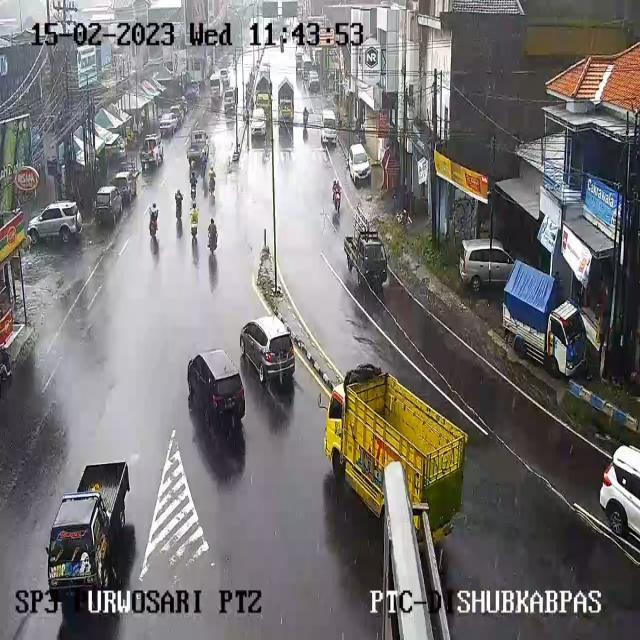Car: (183, 344, 243, 428), (598, 445, 640, 553), (242, 316, 296, 388), (457, 238, 512, 293), (27, 200, 83, 244), (92, 186, 125, 225), (346, 143, 370, 183), (111, 170, 139, 204), (140, 134, 164, 168), (188, 130, 210, 162), (320, 110, 338, 144), (250, 109, 268, 136), (158, 112, 178, 134), (222, 88, 236, 112), (300, 51, 313, 76), (216, 55, 232, 73), (170, 105, 185, 124), (308, 72, 320, 93), (218, 68, 230, 86), (295, 50, 304, 68), (260, 63, 270, 78)
Motorbike: (206, 217, 219, 257), (148, 203, 159, 235), (189, 206, 199, 236), (332, 180, 342, 208), (174, 191, 183, 217), (190, 171, 198, 197), (200, 157, 208, 182), (208, 170, 216, 193), (302, 106, 308, 126)
Truck: (326, 359, 475, 545), (46, 463, 129, 601), (503, 264, 587, 380), (343, 228, 389, 292), (278, 79, 294, 121), (256, 78, 271, 110)
